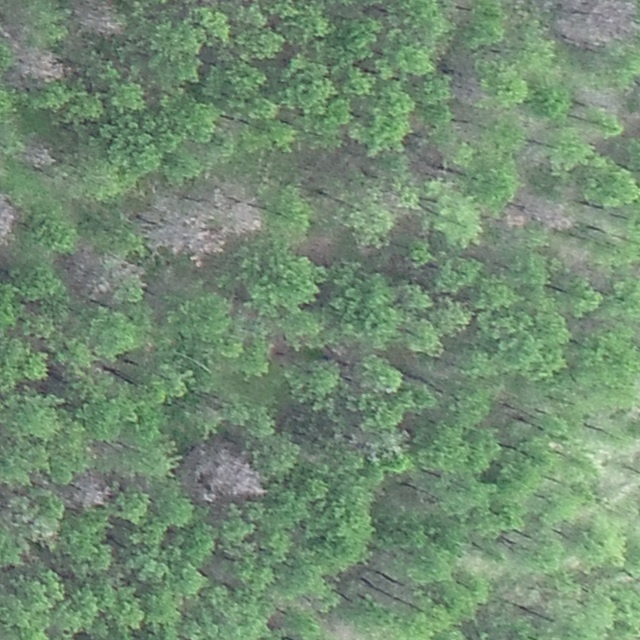unhealthy: (182, 439, 266, 505), (144, 202, 227, 262), (58, 240, 137, 303), (555, 0, 637, 50), (227, 186, 276, 238), (12, 43, 70, 84), (71, 0, 124, 38), (67, 469, 112, 511), (527, 197, 576, 233), (573, 85, 625, 117), (299, 231, 337, 264), (1, 189, 19, 253), (20, 140, 56, 170), (557, 242, 590, 274), (500, 200, 531, 227), (327, 618, 365, 640)
